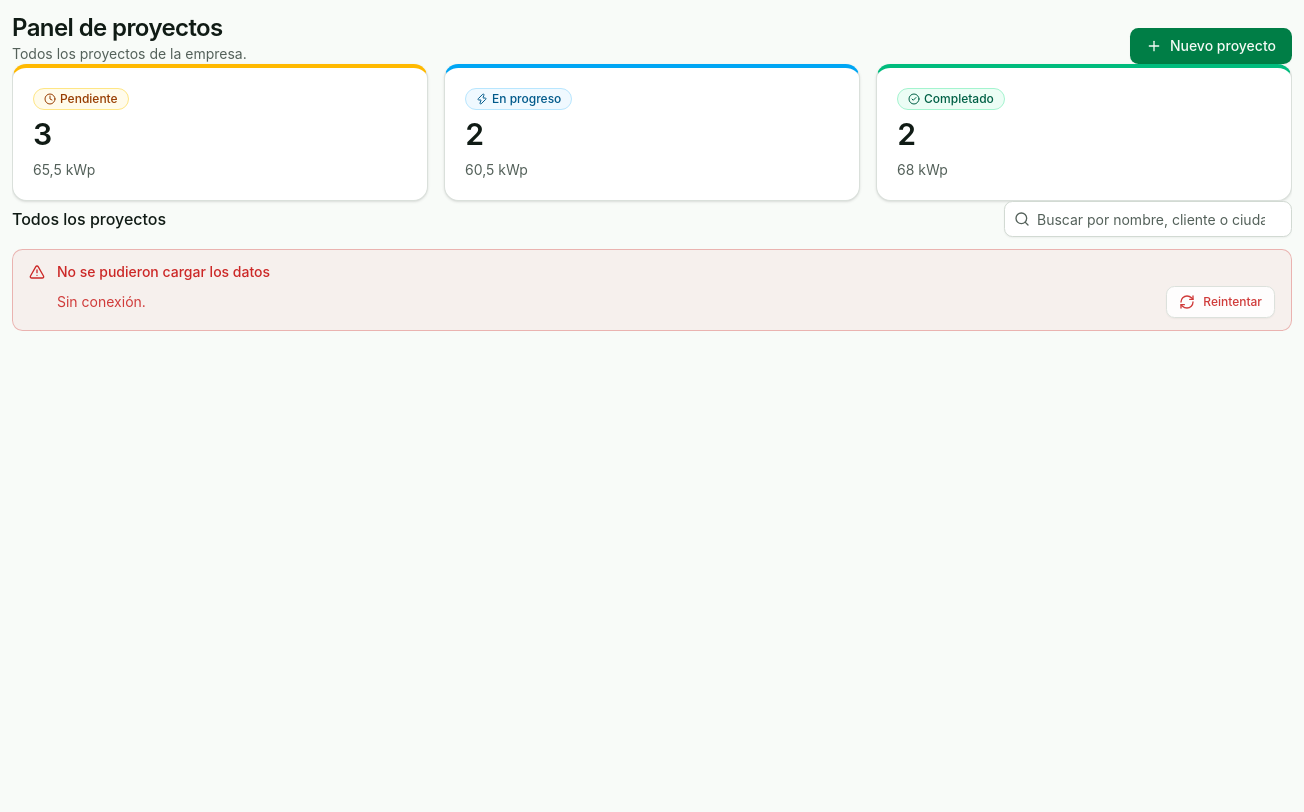
Dashboard (UI-01, UI-02, UI-03, UI-05, UI-07) › muestra un error de carga con opción de reintentar
Expected: the text "Sin conexión." is shown, top-left (57, 292), bottom-right (146, 312)
Click the button "Reintentar". click: (1221, 302)
box: top-left (1166, 286), bottom-right (1275, 318)
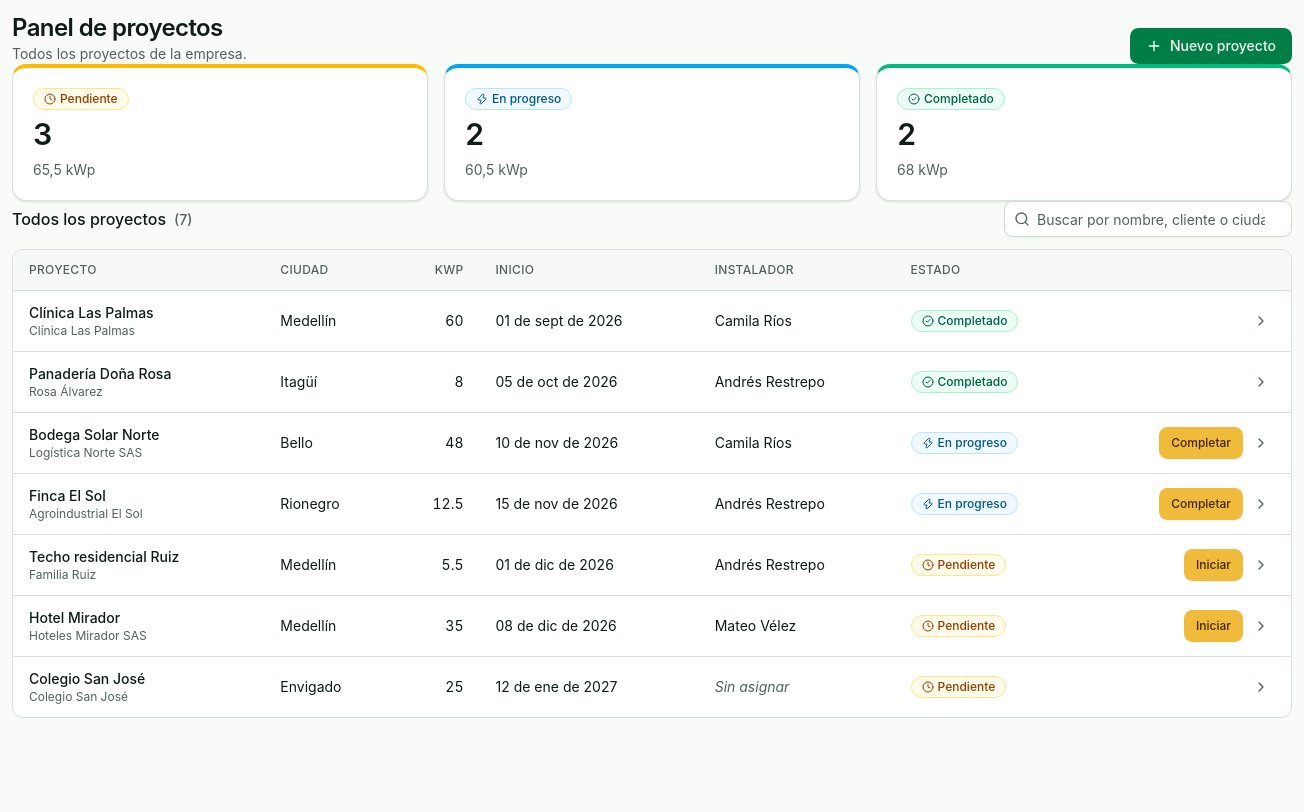
Expected: the link "Techo residencial Ruiz" is shown, top-left (29, 548), bottom-right (179, 565)
